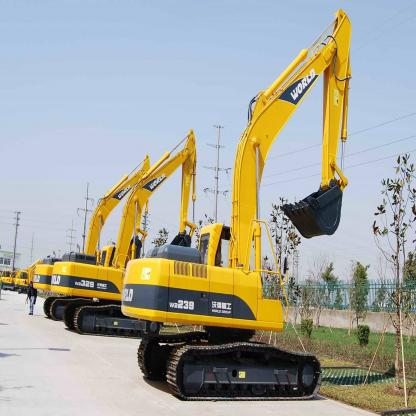excavator: (120, 6, 362, 402), (31, 158, 201, 344)
